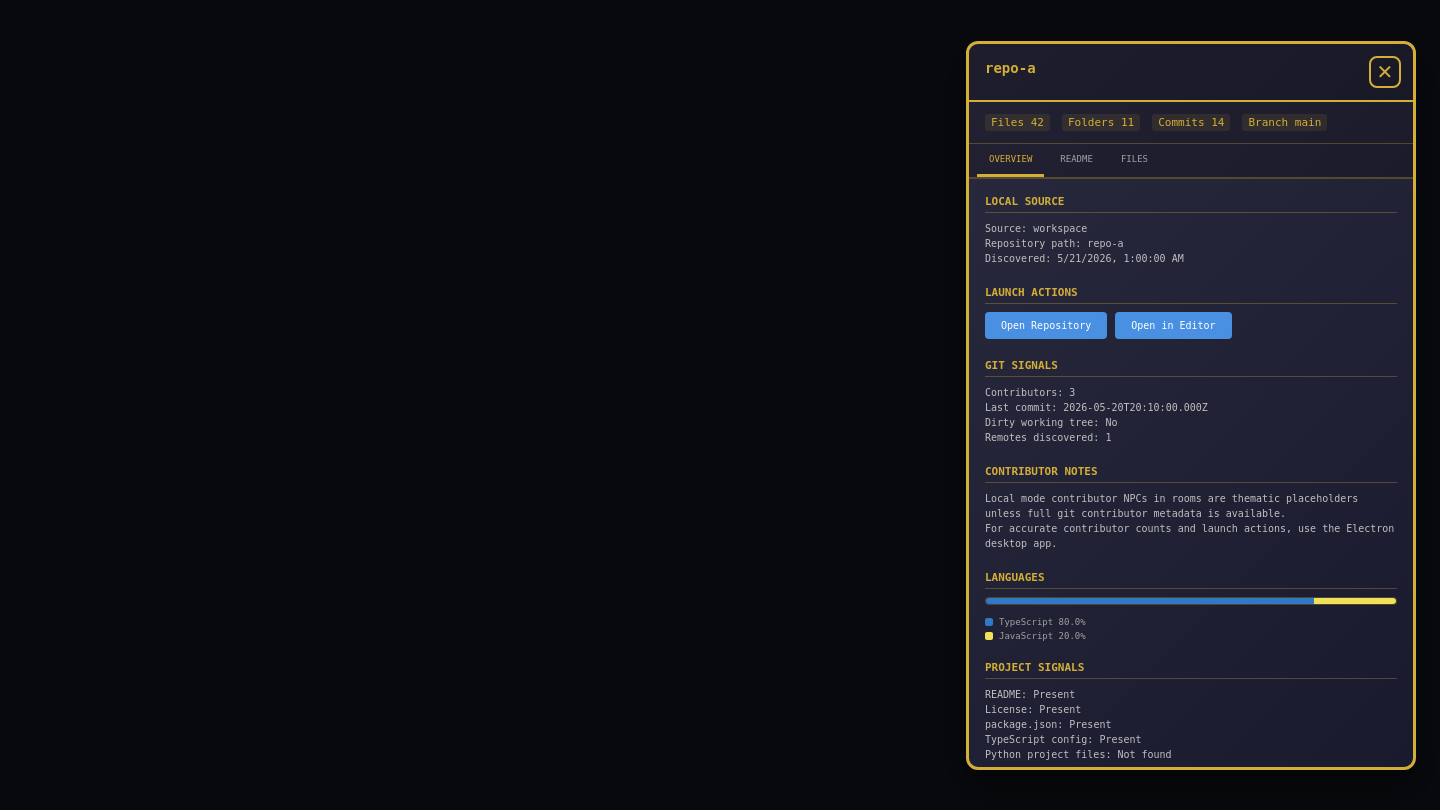
Test: RoomInfoPanel local integration › shows generic local launch failure messaging without exposing backend error details
Step 1. Click the button "Open Repository" → (1046, 325), box [985,312,1107,338]
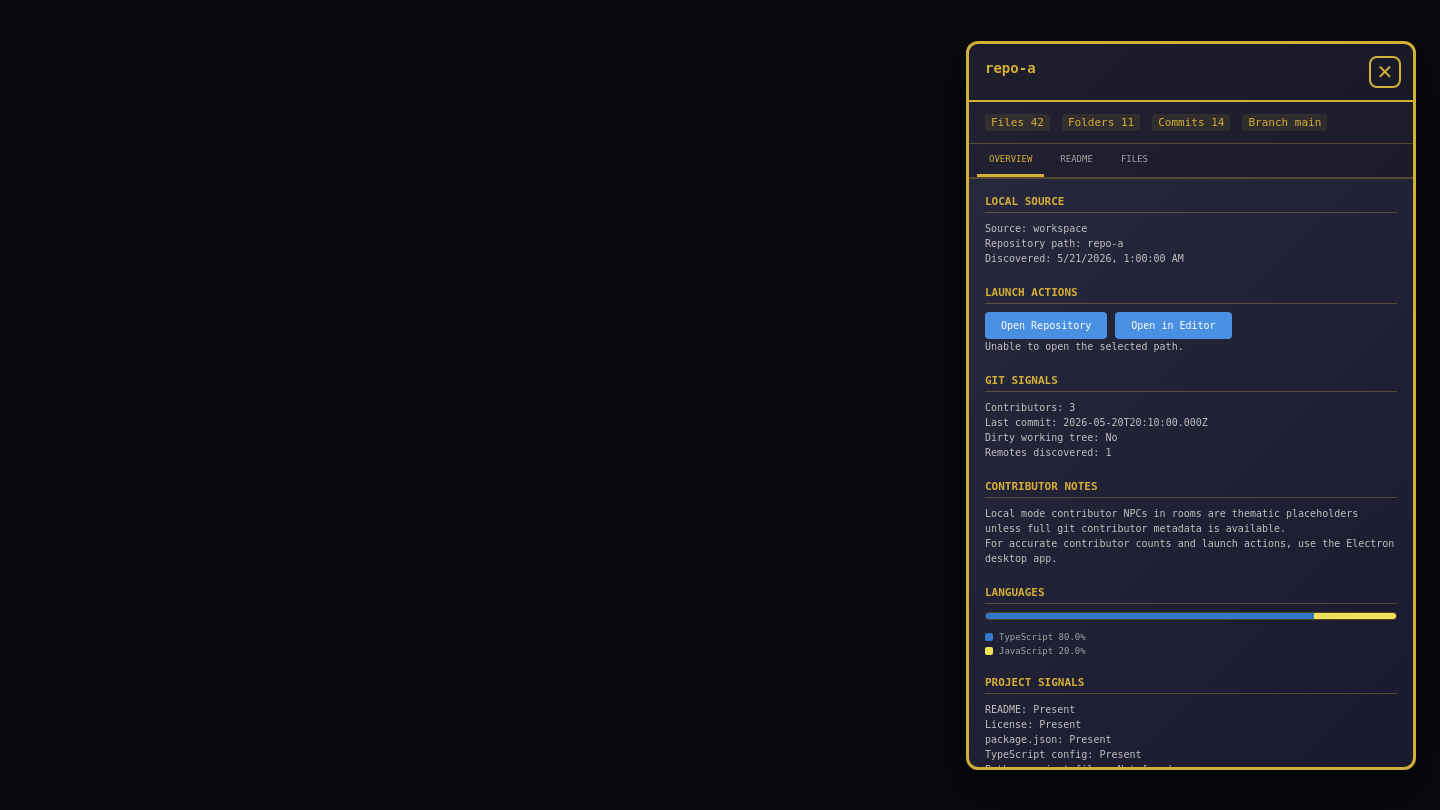
Expected: the text "Unable to open the selected path." is shown, [985,340,1184,352]
